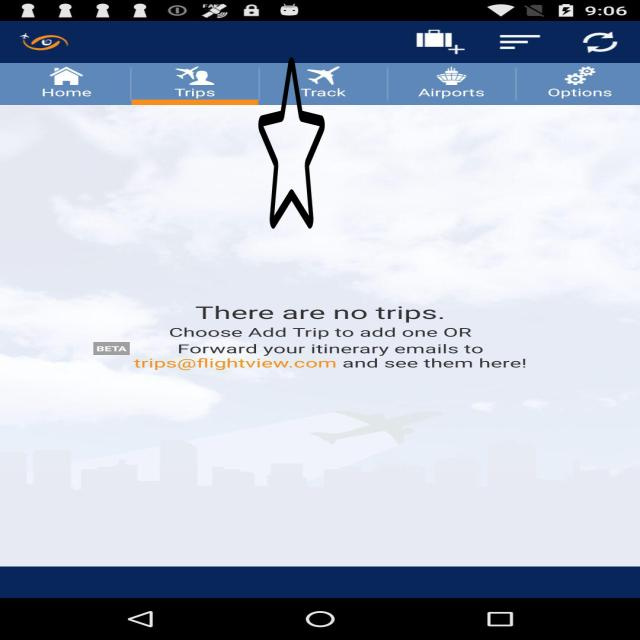forced continuity: (258, 54, 325, 232)
